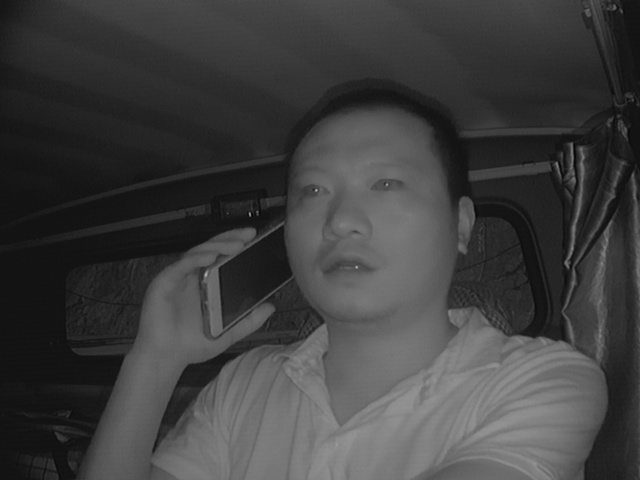hand: (143, 226, 268, 354)
